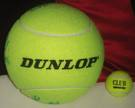tennis ball: (3, 2, 104, 103), (105, 70, 132, 97)
